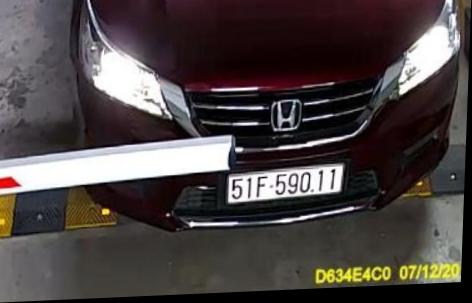License_Plate: (215, 160, 352, 206)
